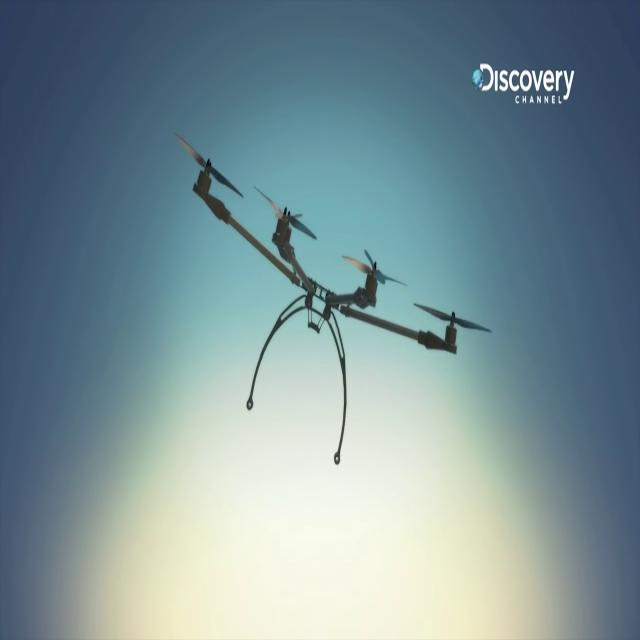drone: (186, 106, 477, 473)
